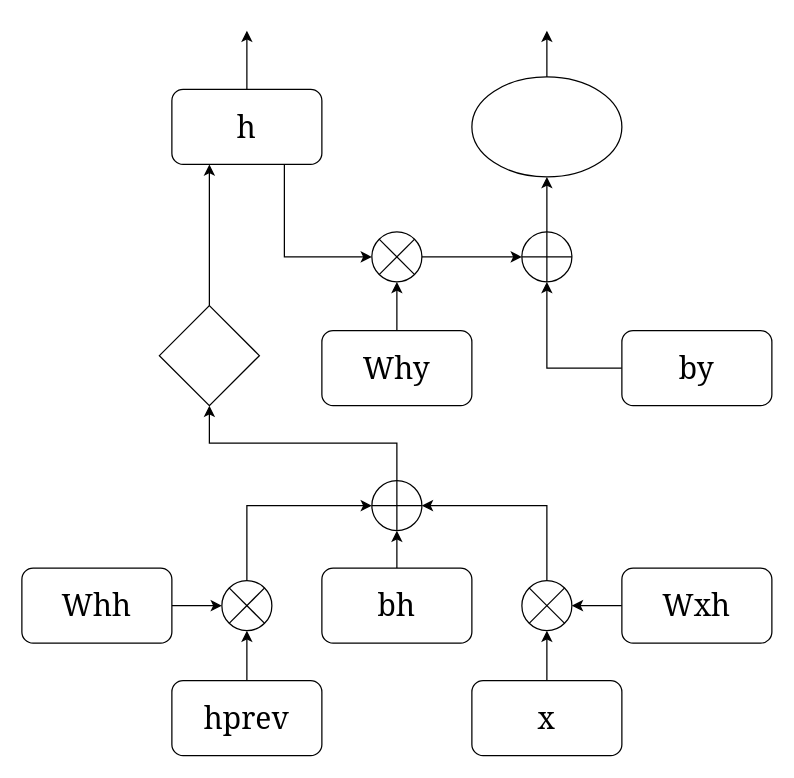
Some shapes in this 794 by 778 pixel diagram are drawn without their labels. The box of each missing label's shape, as (x1, y1, x2, y2) in pixels:
softmax: (471, 76, 622, 177)
tanh: (158, 304, 259, 406)
